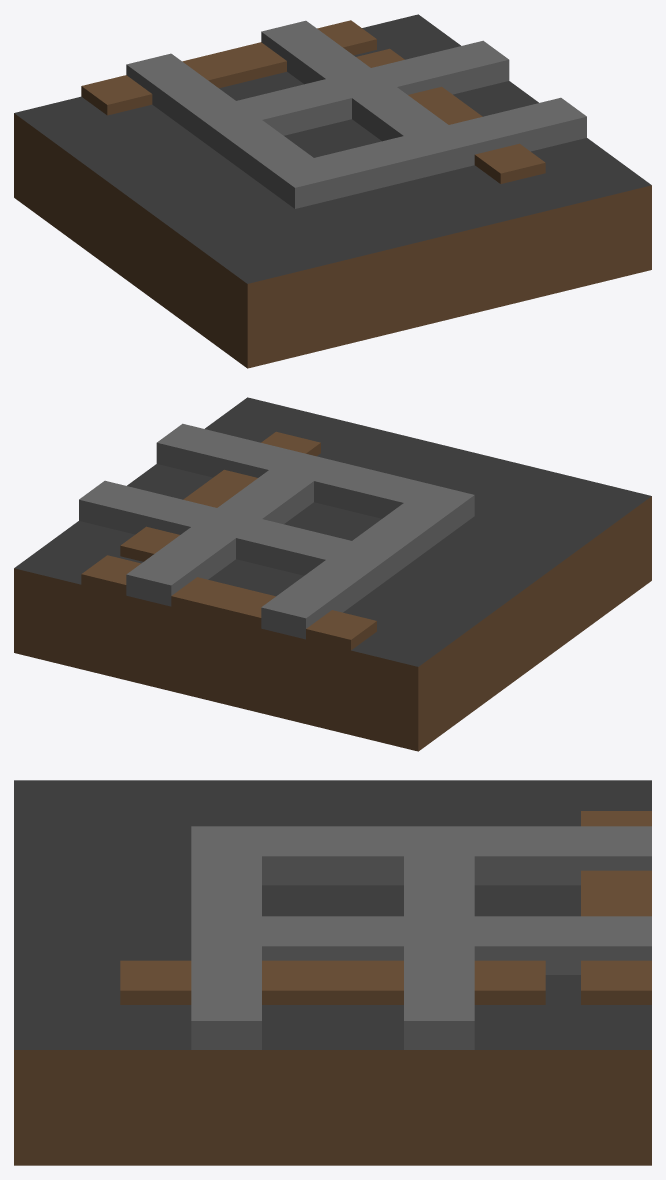
Rendered from rail_corner.fbx.
The picture shows the model from 3 angles, top to bottom: view 1: azimuth 30°, elevation 25°; view 2: azimuth 150°, elevation 25°; view 3: azimuth 270°, elevation 25°; orthographic projection. The views are drawn at different scales.
Visible parts, largest first — view 1: Cube.002; view 2: Cube.002; view 3: Cube.002.
Boxes of the visible parts, x1,y1,x2,y2 form: Cube.002: (14,14,651,368); Cube.002: (14,397,651,751); Cube.002: (14,780,651,1165).
Size of the model in its own units: 1000 by 250 by 1000.
